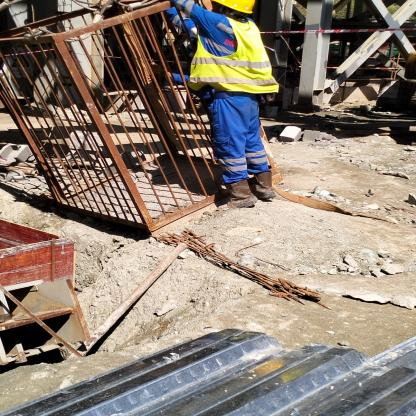bota: (214, 182, 258, 210), (251, 170, 275, 201)
